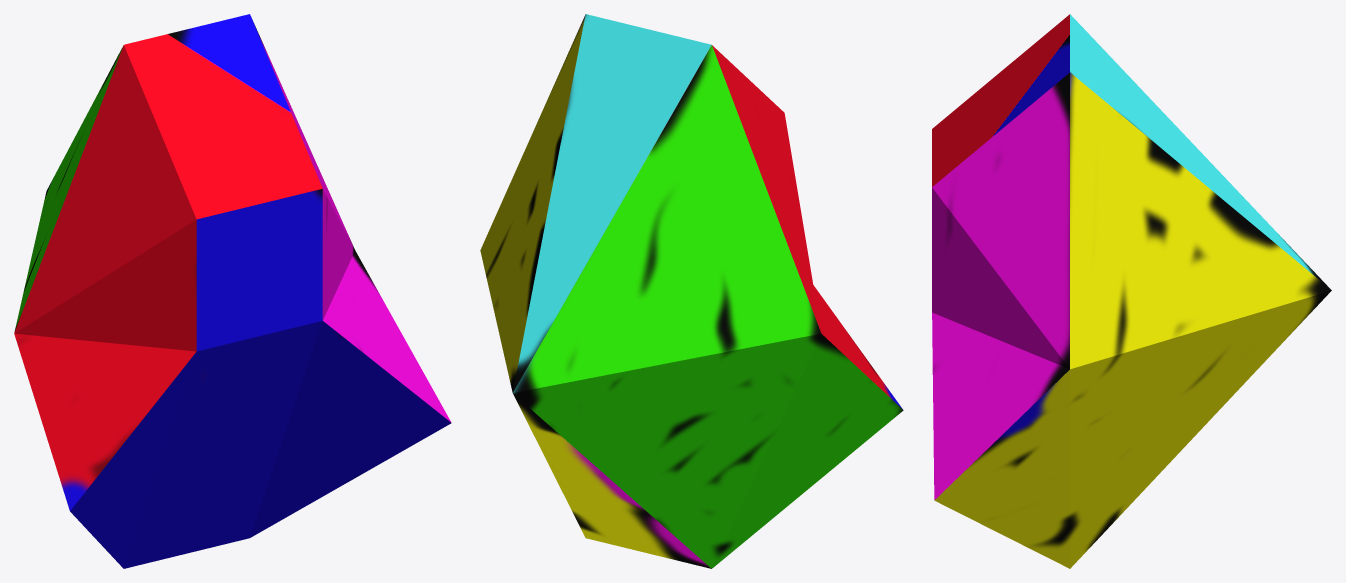
File: thing2.fbx
The picture shows the model from 3 angles, left to right: view 1: azimuth 30°, elevation 25°; view 2: azimuth 150°, elevation 25°; view 3: azimuth 270°, elevation 25°; orthographic projection. The views are drawn at different scales.
Visible parts, largest first — view 1: Cube; view 2: Cube; view 3: Cube.
Part boxes in pixels (bbox=[...]): Cube: bbox=[14, 14, 451, 568]; Cube: bbox=[480, 14, 903, 568]; Cube: bbox=[932, 14, 1331, 568].
Bounding box in the file's own units: 6.01 × 7.94 × 5.79.
